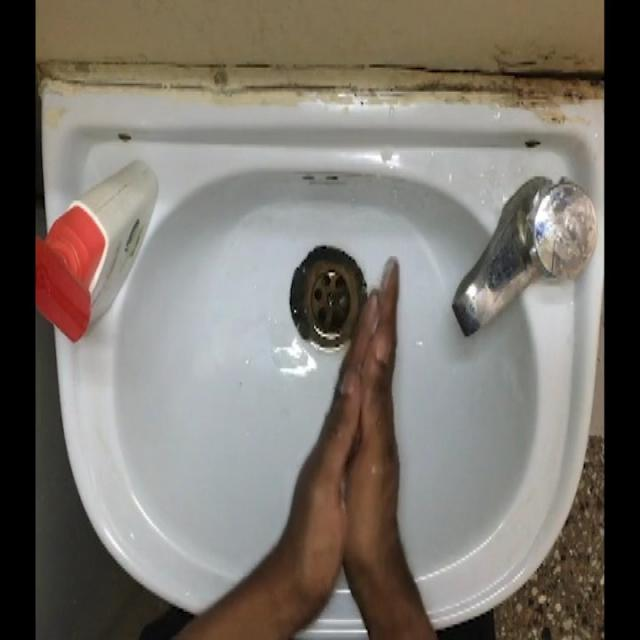step_1: (275, 242, 423, 578)
